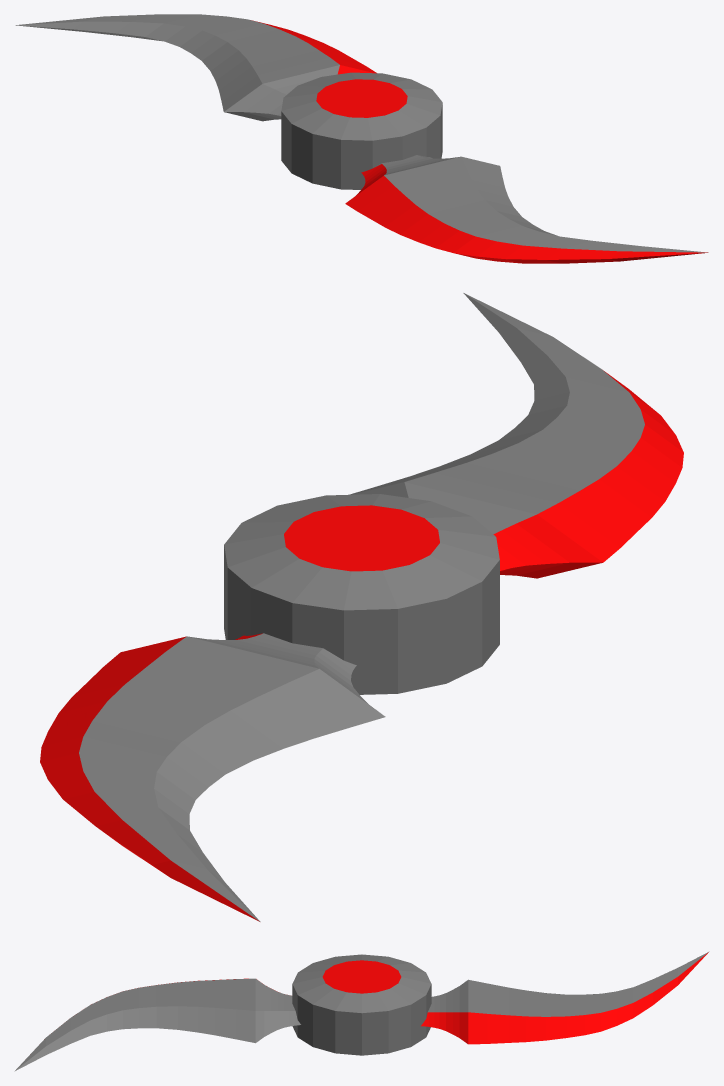
Rendered from Beyblade_Basic_Blade_Fire.fbx.
3 renders of one model, top to bottom at view 1: azimuth 30°, elevation 25°; view 2: azimuth 150°, elevation 25°; view 3: azimuth 270°, elevation 25°, orthographic. The views are drawn at different scales.
Visible parts, largest first — view 1: Circle.001; view 2: Circle.001; view 3: Circle.001.
Part boxes in pixels (left/top/right/bottom): Circle.001: left=15, top=14, right=708, bottom=263; Circle.001: left=40, top=293, right=683, bottom=921; Circle.001: left=14, top=951, right=709, bottom=1071.
Bounding box in the file's own units: 162 × 35.77 × 394.
1 material, 1 textured.
